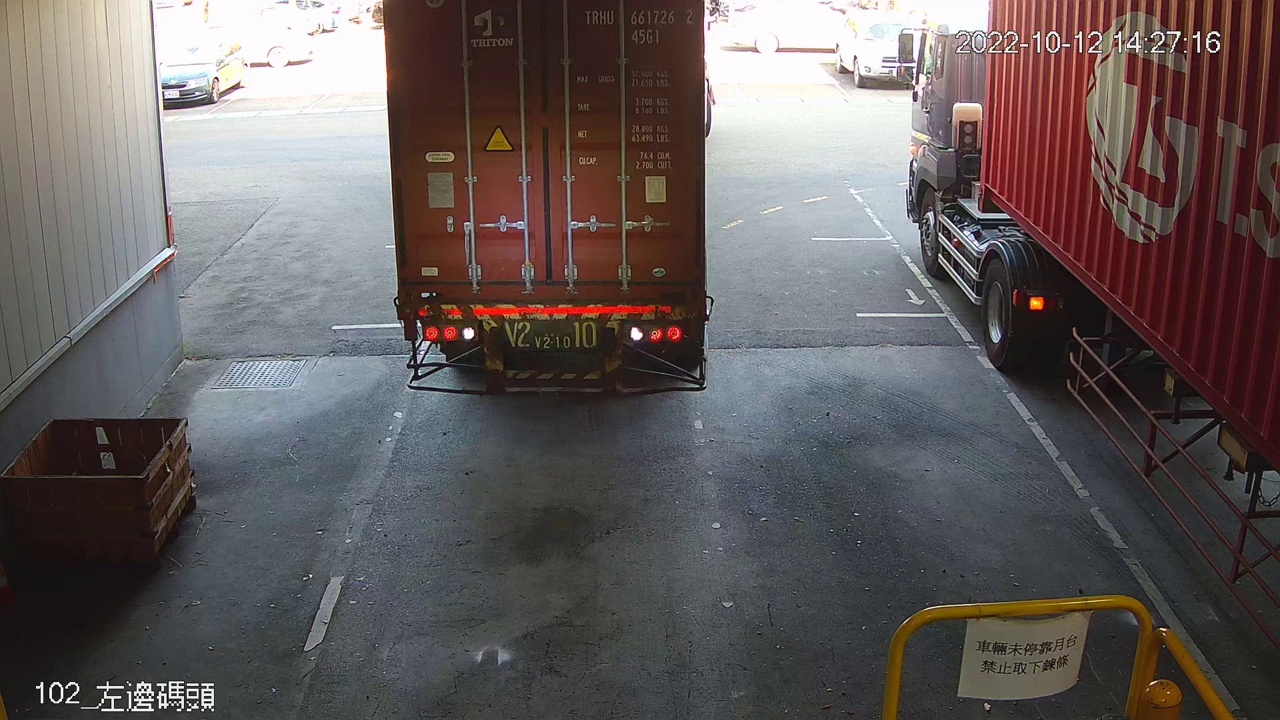container: (578, 4, 699, 47)
